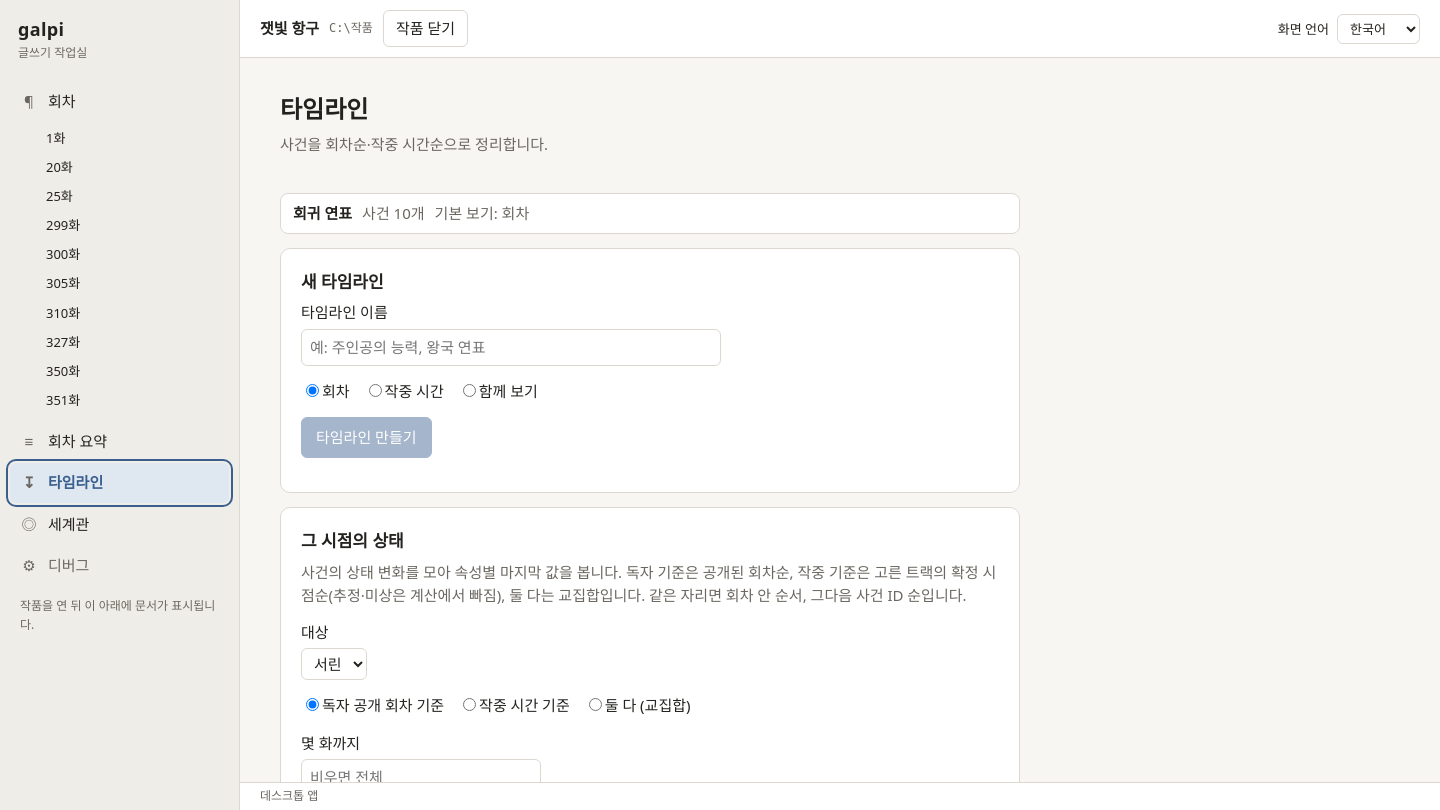
Test case: 10 filters and links › a link whose target vanished offers the way back
The image size is (1440, 810).
Earlier steps of the test are not shown.
Later steps or results of the test are not shown.
Click the button "회귀 연표 사건 10개 기본 보기: 회차" at [323, 213], box [280, 193, 1020, 234]
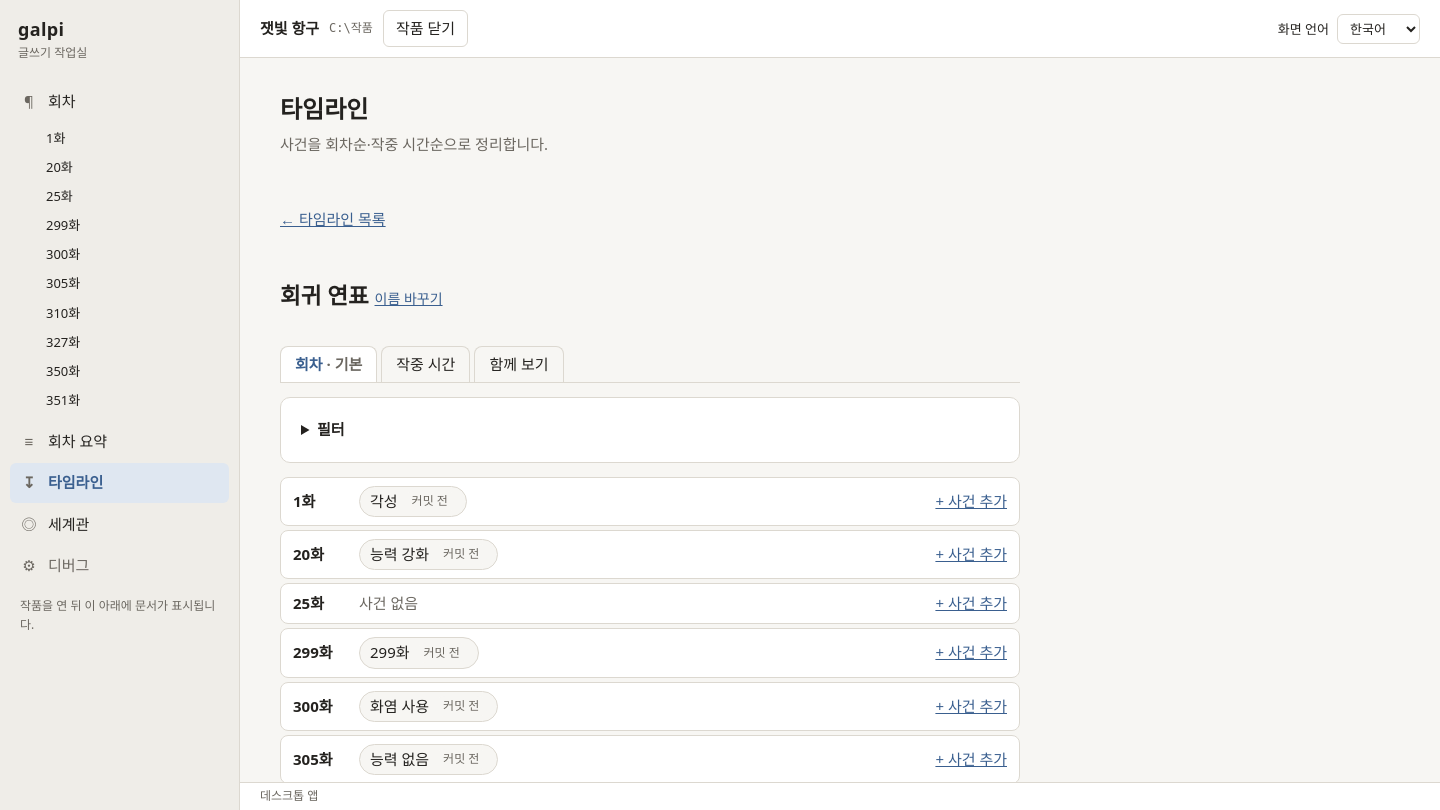
Check: the element showing "회차 · 기본 작중 시간 함께 보기" is shown, box [280, 346, 1020, 384]
Click the heading "필터" at [331, 429], box [317, 419, 344, 439]
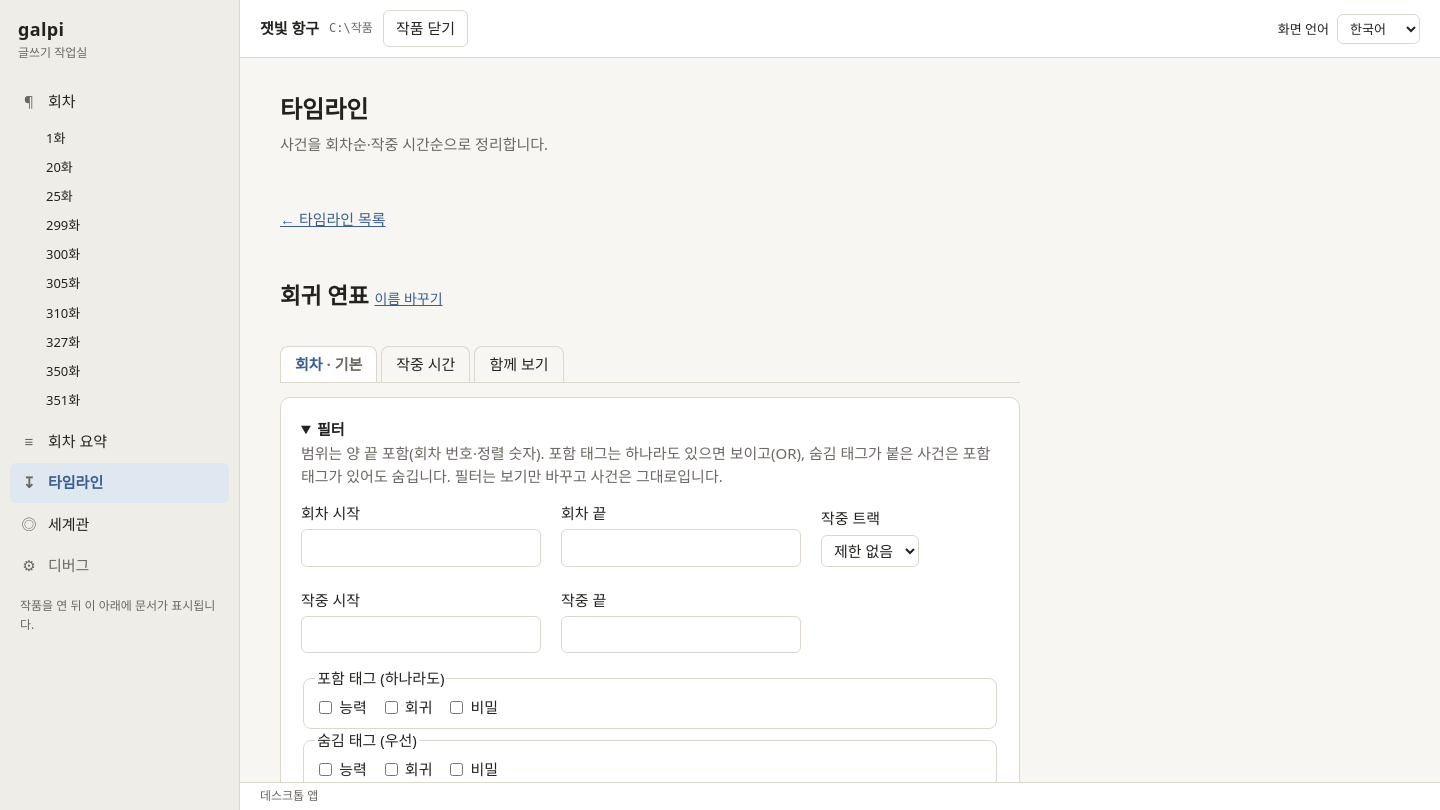
Type "300" into the number field labelled "회차 시작" at [421, 548], box [301, 529, 541, 567]
(page scrolled)
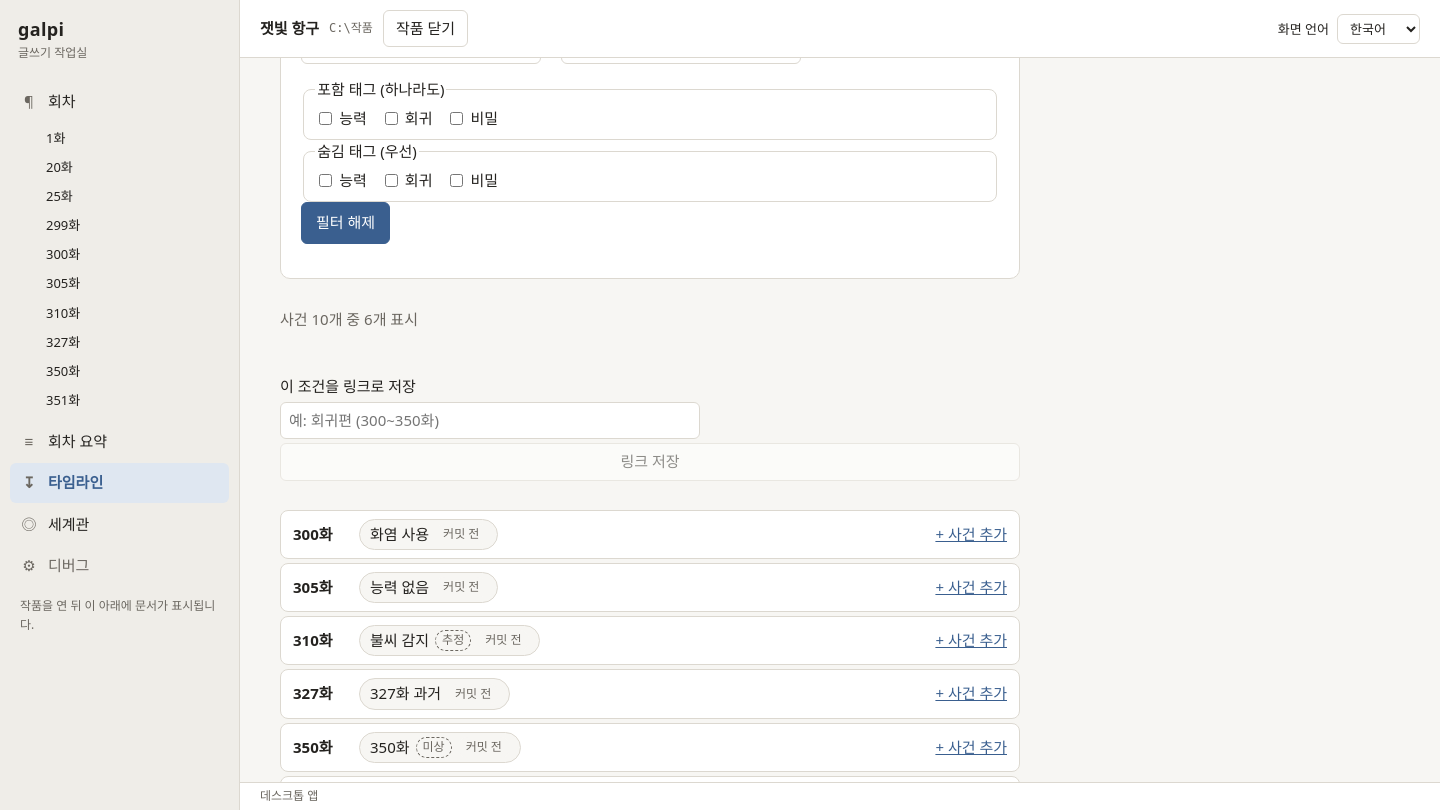
Type "회귀편" into the field labelled "이 조건을 링크로 저장" at [490, 421], box [280, 402, 700, 440]
Click the button "링크 저장" at [650, 462], box [280, 443, 1020, 481]
(page scrolled)
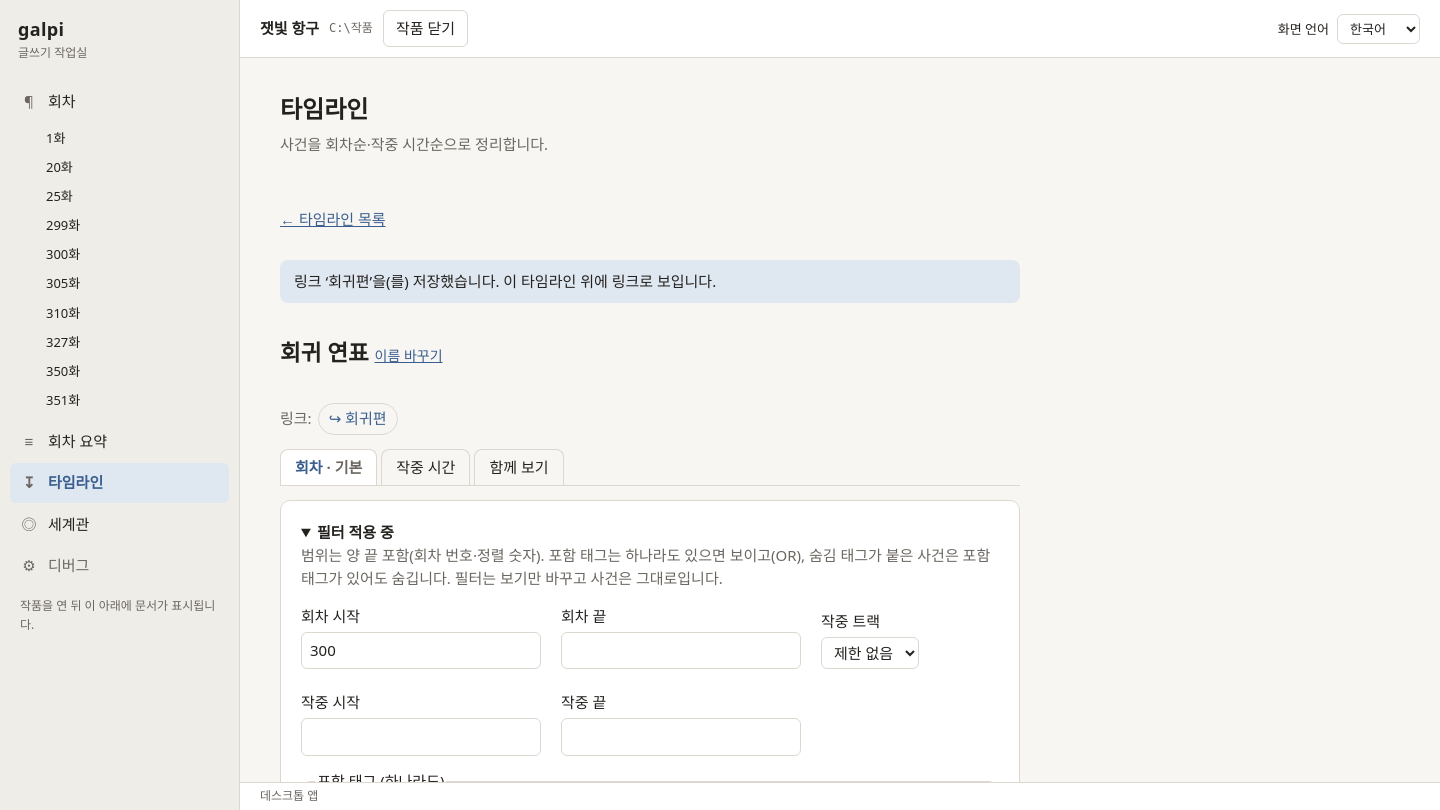
Click the button "↪ 회귀편" at [358, 419], box [318, 403, 398, 435]
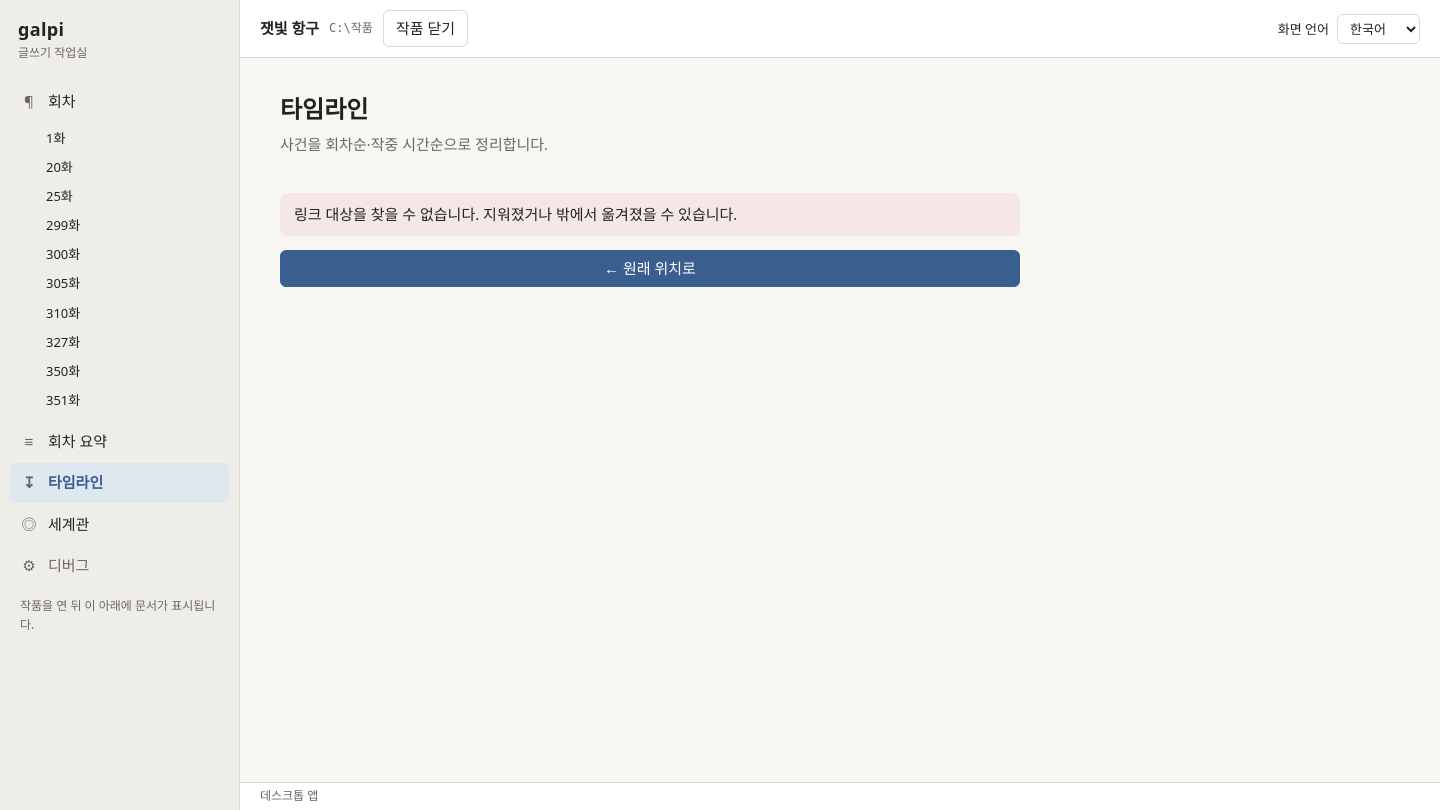
Check: the message shows "링크 대상을 찾을 수 없습니다", box [294, 204, 737, 224]
Click the button "← 원래 위치로" at [650, 269], box [280, 250, 1020, 287]
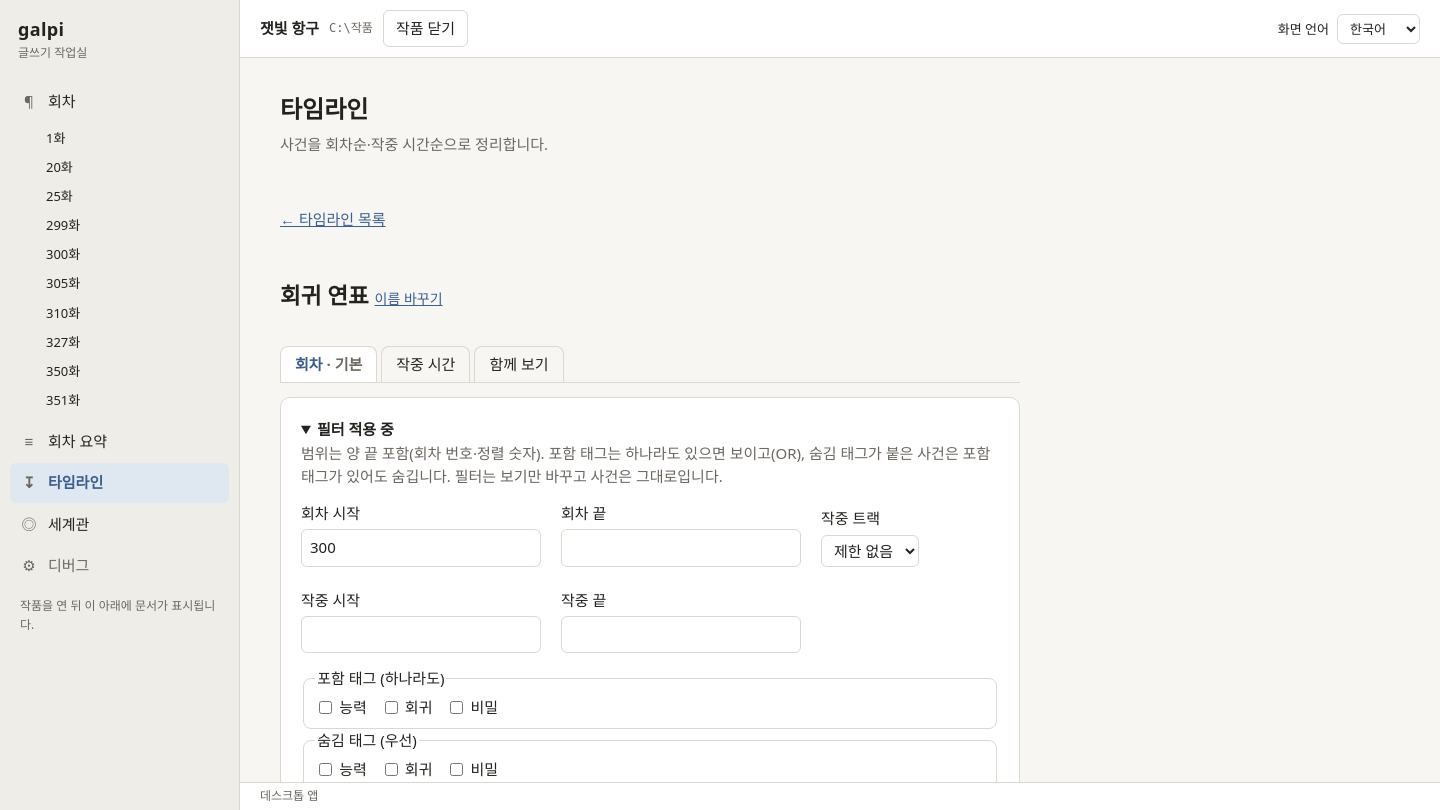
Check: the number field labelled "회차 시작" holds "300", box [301, 529, 541, 567]
